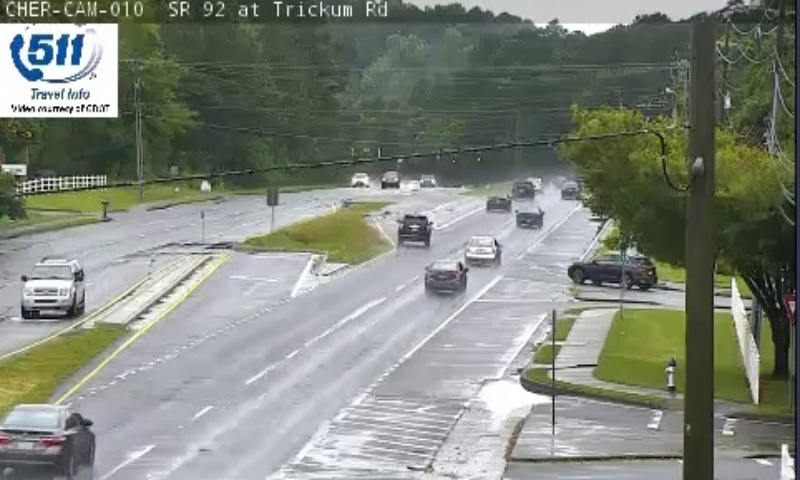car: (1, 402, 94, 470), (424, 258, 466, 290), (464, 234, 501, 265), (399, 214, 432, 243), (516, 203, 542, 227), (486, 193, 511, 212)
